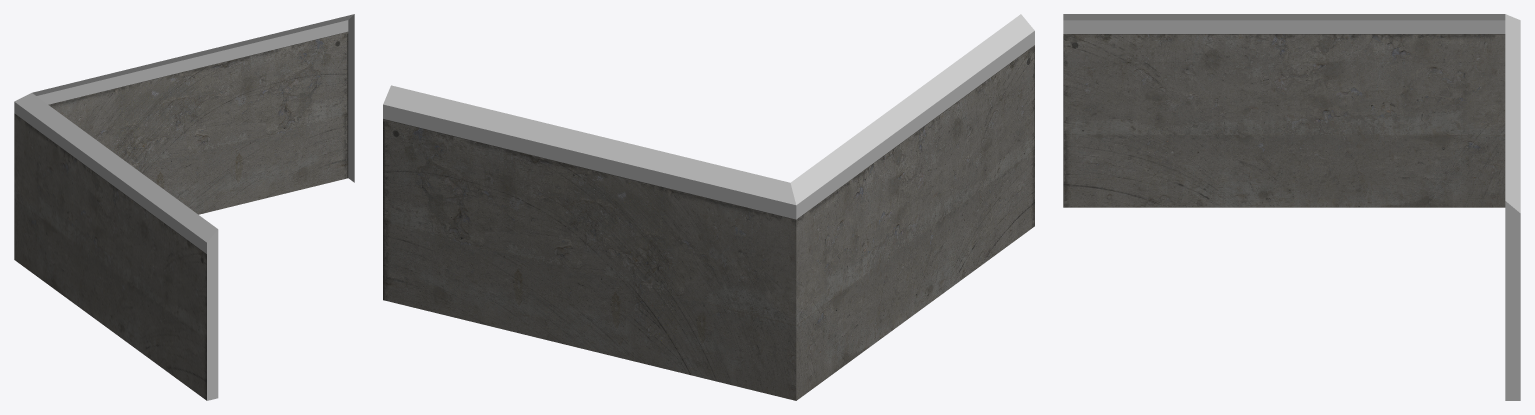
The model's file is CP_Foundation_A_Angle_Out.fbx.
The picture shows the model from 3 angles, left to right: view 1: azimuth 30°, elevation 25°; view 2: azimuth 150°, elevation 25°; view 3: azimuth 270°, elevation 25°; orthographic projection. The views are drawn at different scales.
Parts seen in each view (by area): view 1: CP_Foundation_A_Angle_Out; view 2: CP_Foundation_A_Angle_Out; view 3: CP_Foundation_A_Angle_Out.
Part boxes in pixels (x1,y1,x2,y2): CP_Foundation_A_Angle_Out: (14,14,354,400); CP_Foundation_A_Angle_Out: (383,14,1034,400); CP_Foundation_A_Angle_Out: (1063,14,1520,400).
Size of the model in its own units: 207 by 100 by 207.
